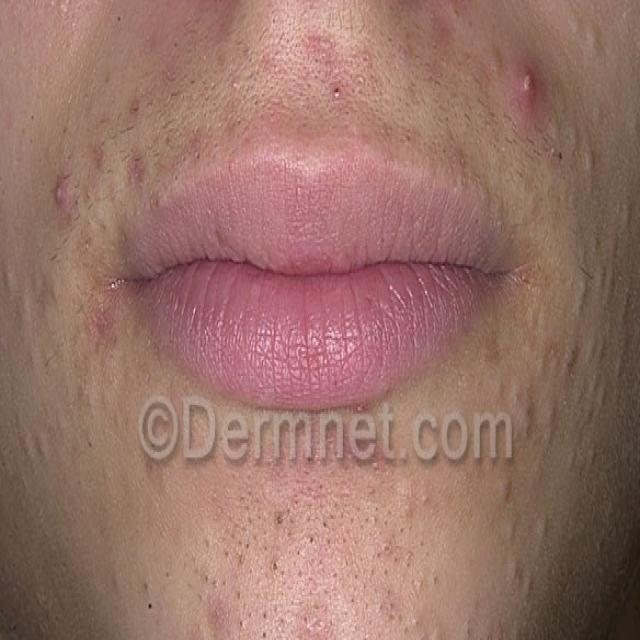Acne: (166, 403, 502, 640), (35, 145, 137, 379), (221, 46, 424, 125), (494, 13, 575, 157)
